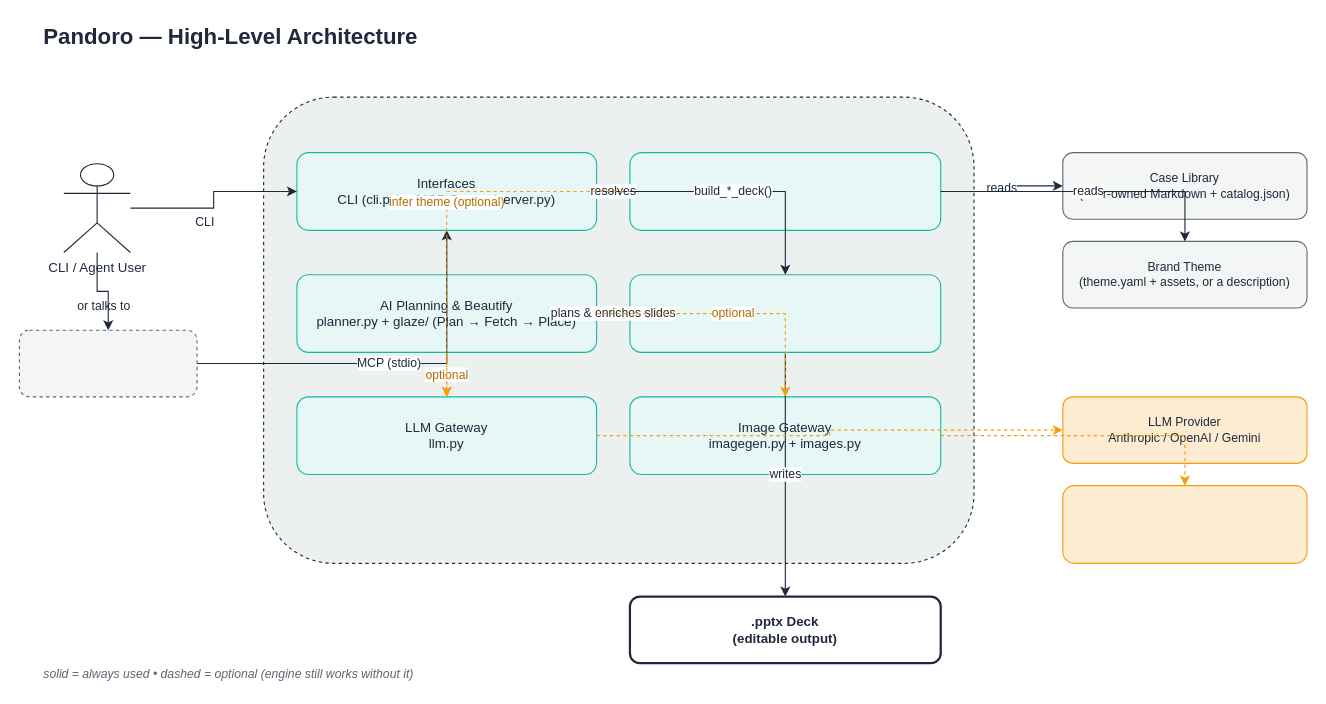
Image size: 1326x704. Some labels were removed from this diagram. Here are the shapes that lost their labels. From the top down, the box of each, then its label:
(629, 152, 941, 230): Library & Theme Loaders kb.py + theme.py
(263, 96, 974, 563): Pandoro Engine
(629, 274, 941, 352): Deck Builder builder.py + diagrams.py / charts.py
(18, 329, 197, 397): MCP Client (Claude Desktop / Code, ...)
(1062, 485, 1307, 563): Image Provider OpenAI/Stability generate, Pexels/Unsplash stock
